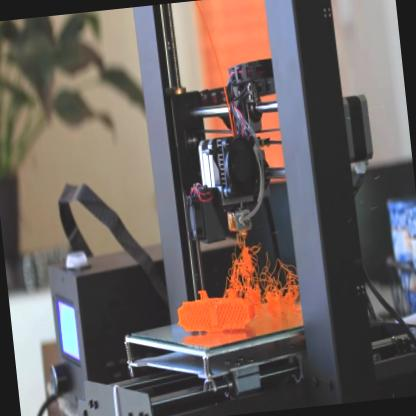fail: (223, 242, 299, 302)
